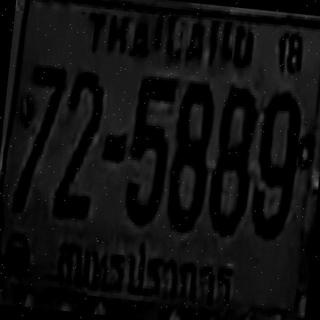N02: (52, 67, 104, 217)
N05: (122, 72, 176, 225)
N07: (11, 60, 66, 214)
N08: (205, 82, 258, 235), (164, 79, 216, 232)
N09: (248, 88, 303, 238)
P57: (44, 224, 243, 315)
